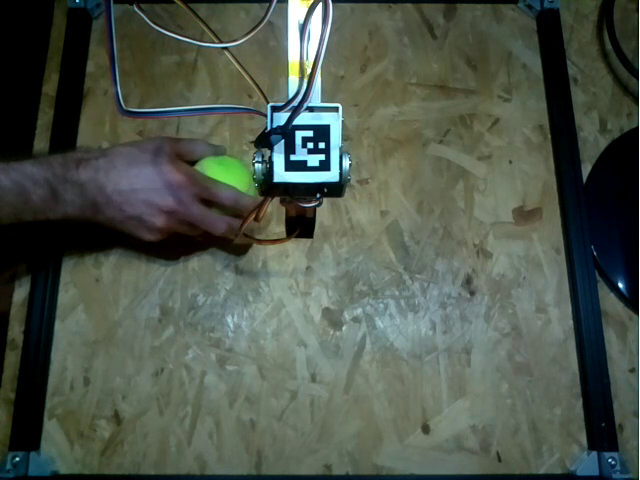tennis_ball: (197, 155, 252, 189)
